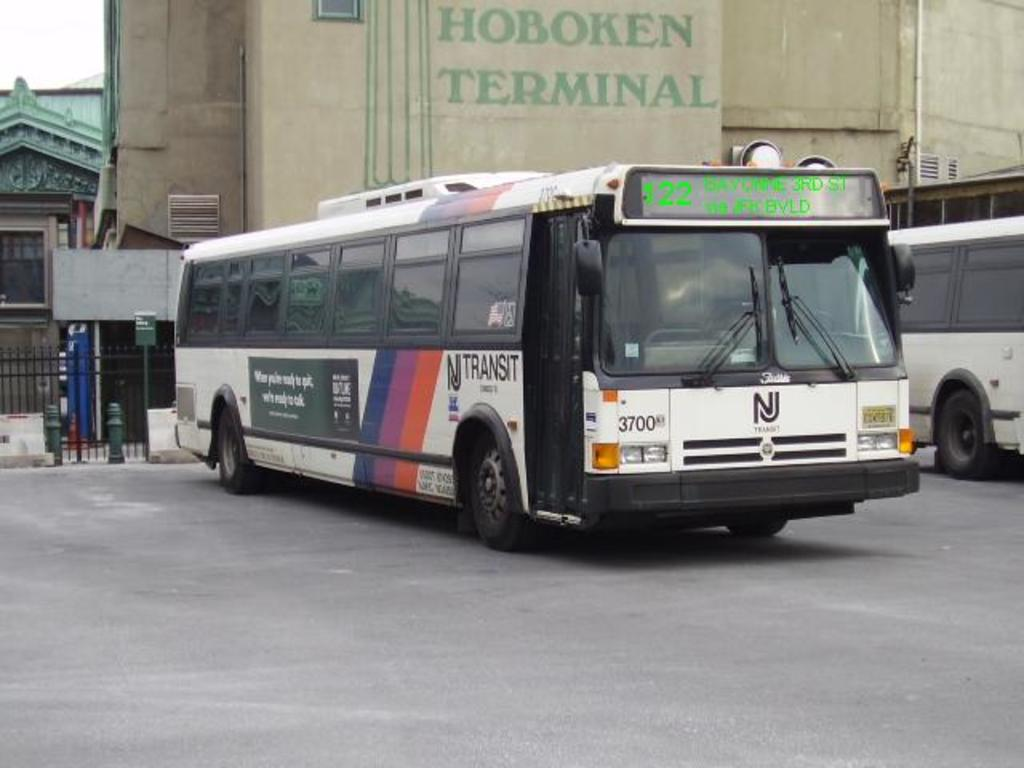Bus: (174, 163, 923, 555), (849, 214, 1022, 475)
